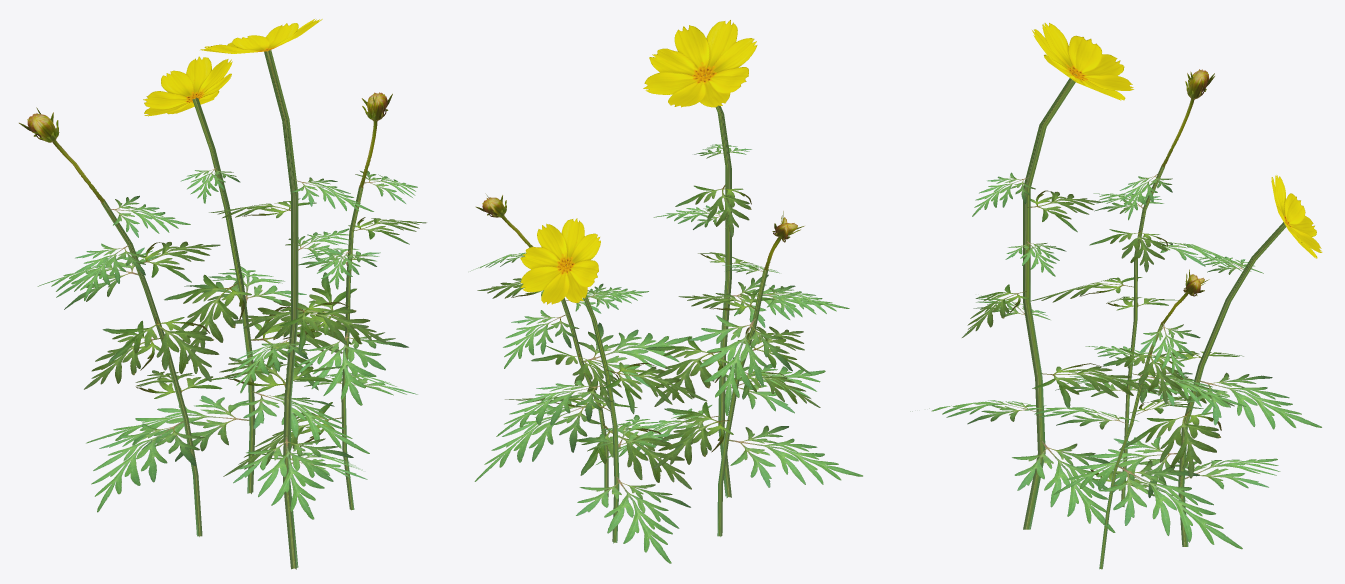
The model's file is m_flower33.fbx.
3 views of the same model, side by side, from view 1: azimuth 30°, elevation 25°; view 2: azimuth 150°, elevation 25°; view 3: azimuth 270°, elevation 25° (orthographic). The views are drawn at different scales.
Visible parts, largest first — view 1: mesh_flower33; view 2: mesh_flower33; view 3: mesh_flower33.
Boxes of the visible parts, left/top/right/bottom form: mesh_flower33: left=19, top=19, right=426, bottom=569; mesh_flower33: left=470, top=20, right=862, bottom=563; mesh_flower33: left=910, top=23, right=1322, bottom=569.
Bounding box in the file's own units: 0.3061 × 0.402 × 0.3127.
